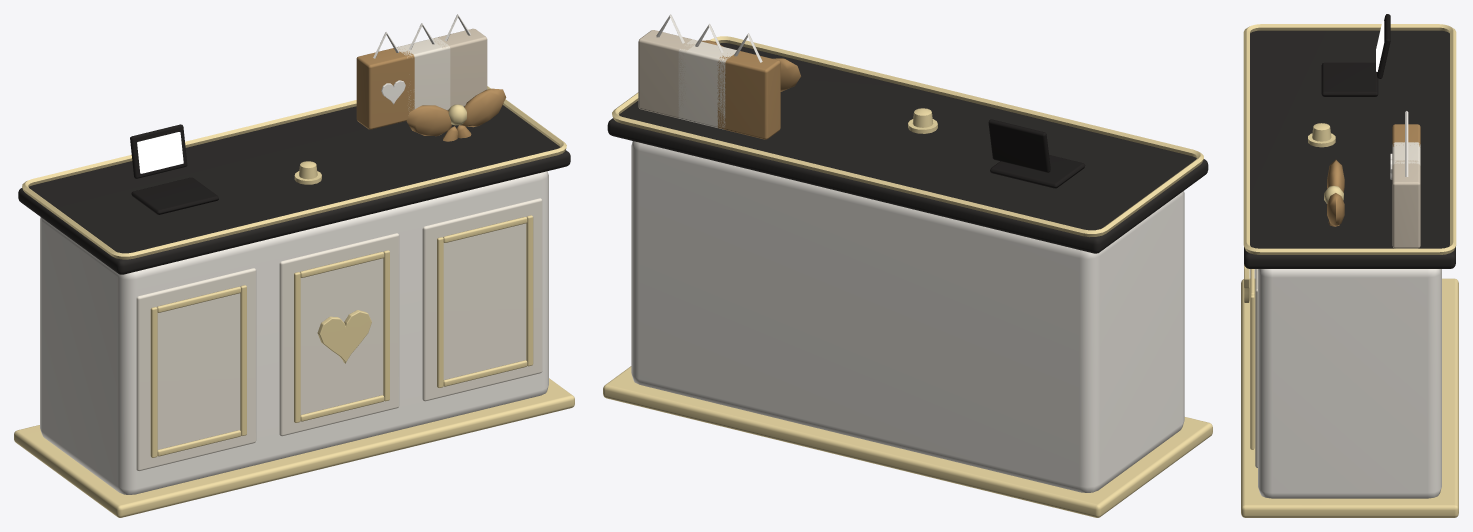
File: checkout_counter.glb
3 renders of one model, left to right at view 1: azimuth 30°, elevation 25°; view 2: azimuth 150°, elevation 25°; view 3: azimuth 270°, elevation 25°, orthographic. The views are drawn at different scales.
Visible parts, largest first — view 1: checkout_counter; view 2: checkout_counter; view 3: checkout_counter.
Part boxes in pixels (x1,y1,x2,y2): checkout_counter: (14, 14, 574, 517); checkout_counter: (603, 14, 1212, 517); checkout_counter: (1241, 14, 1458, 517).
Size of the model in its own units: 1.92 by 1.38 by 0.77.
